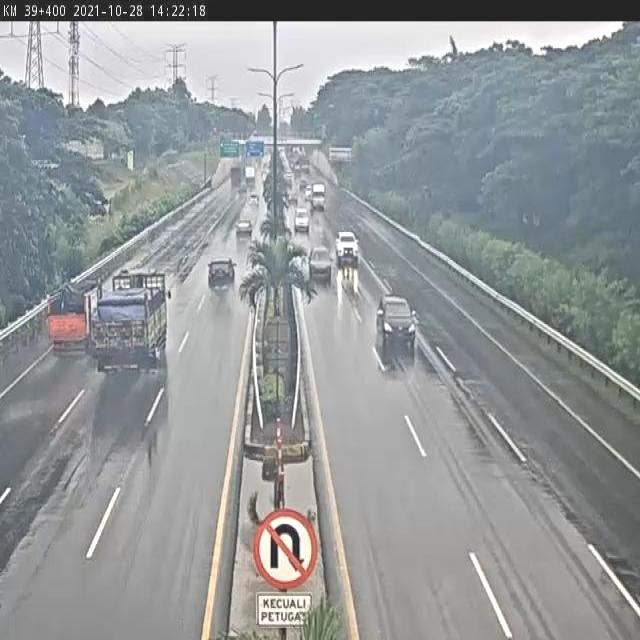Car: (376, 295, 420, 358), (307, 245, 335, 287), (207, 257, 237, 288), (335, 231, 360, 263), (294, 207, 310, 235), (235, 218, 252, 238), (247, 194, 259, 208), (304, 184, 313, 202)
Truck: (98, 270, 171, 377), (47, 276, 100, 361), (311, 183, 327, 212), (229, 165, 243, 190), (245, 164, 255, 190)
